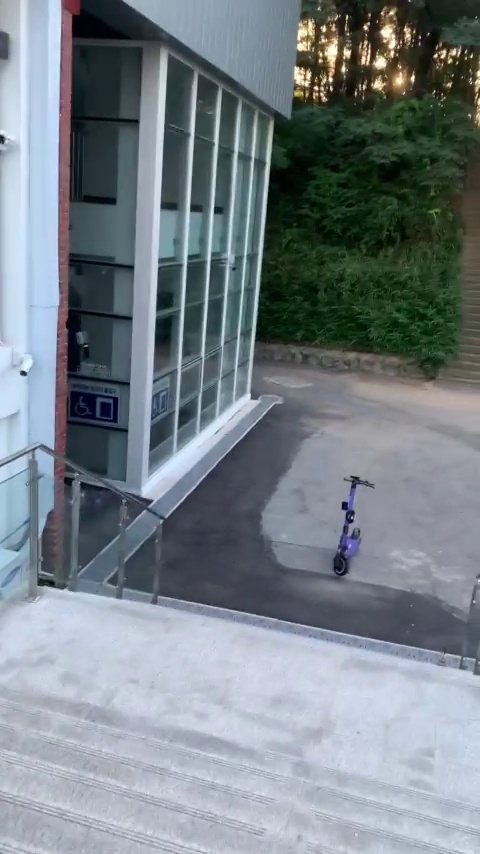beam: (325, 467, 375, 583)
